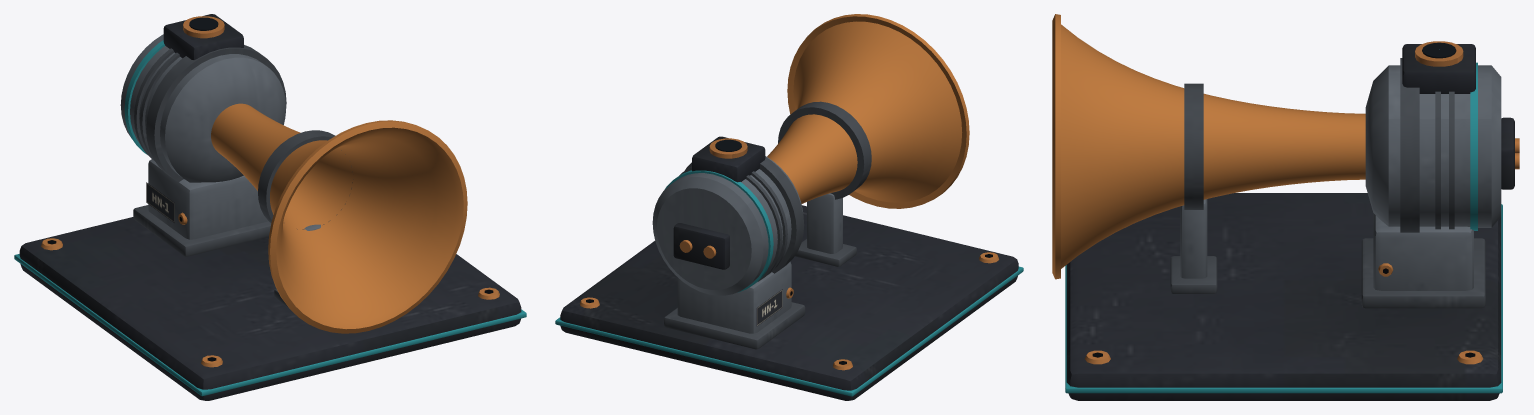
Rendered from horn.glb.
The picture shows the model from 3 angles, left to right: view 1: azimuth 30°, elevation 25°; view 2: azimuth 150°, elevation 25°; view 3: azimuth 270°, elevation 25°; orthographic projection. The views are drawn at different scales.
Visible parts, largest first — view 1: Body; view 2: Body; view 3: Body.
Boxes of the visible parts, x1,y1,x2,y2 form: Body: (14,14,526,400); Body: (555,14,1023,400); Body: (1052,14,1519,400).
Bounding box in the file's own units: 0.2256 × 0.1635 × 0.241.
10 materials, 5 textured.
